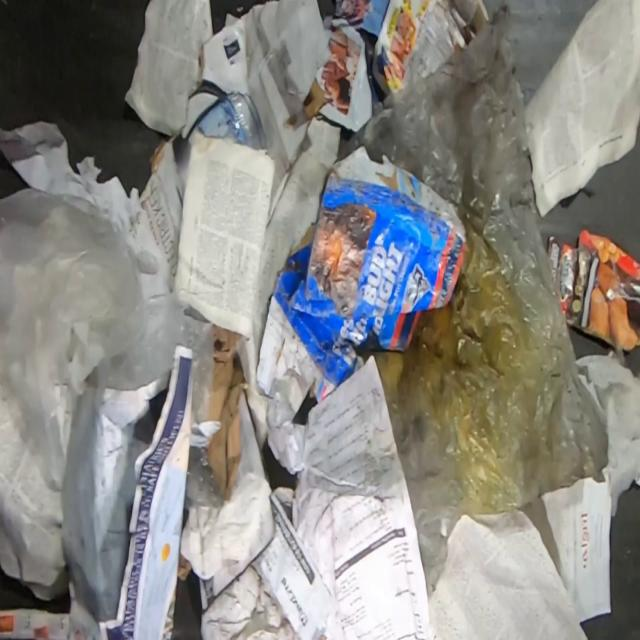cardboard: (254, 145, 469, 404), (138, 0, 330, 281), (548, 228, 640, 355)
soft_plastic: (346, 0, 609, 602), (0, 188, 212, 495), (184, 445, 224, 510)
